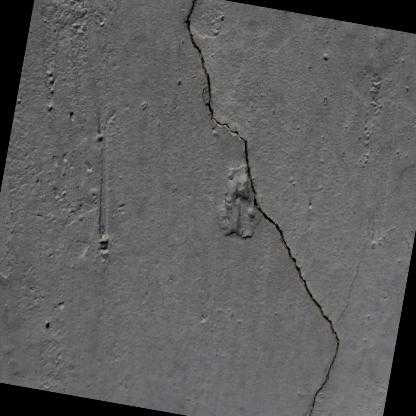crack: (183, 0, 362, 416), (223, 216, 262, 238)
